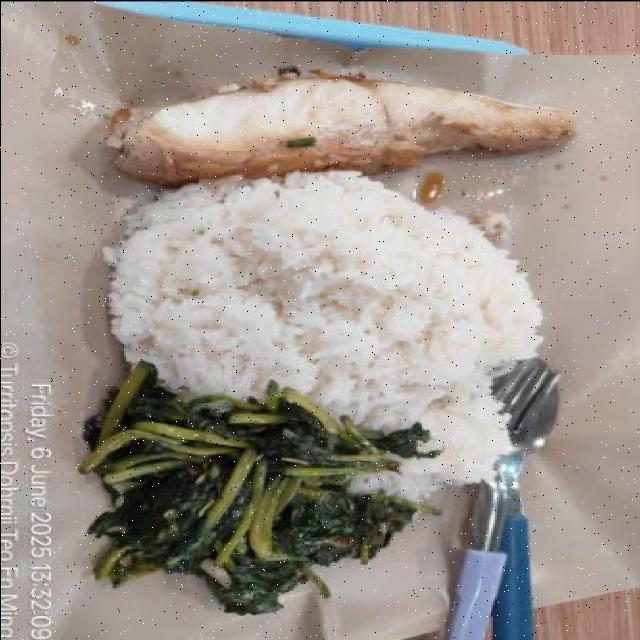Fish: (108, 70, 575, 186)
Green veg: (83, 362, 436, 612)
Rice: (104, 171, 542, 499)
